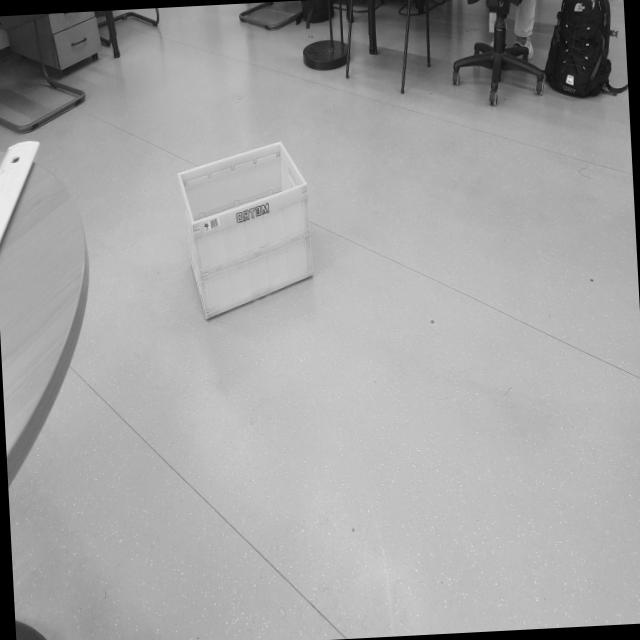box: (174, 114, 324, 341)
